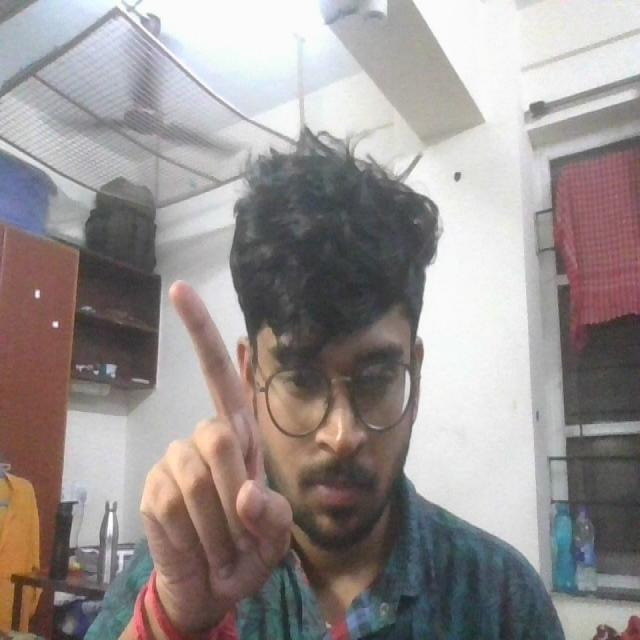No: (119, 271, 313, 635)
